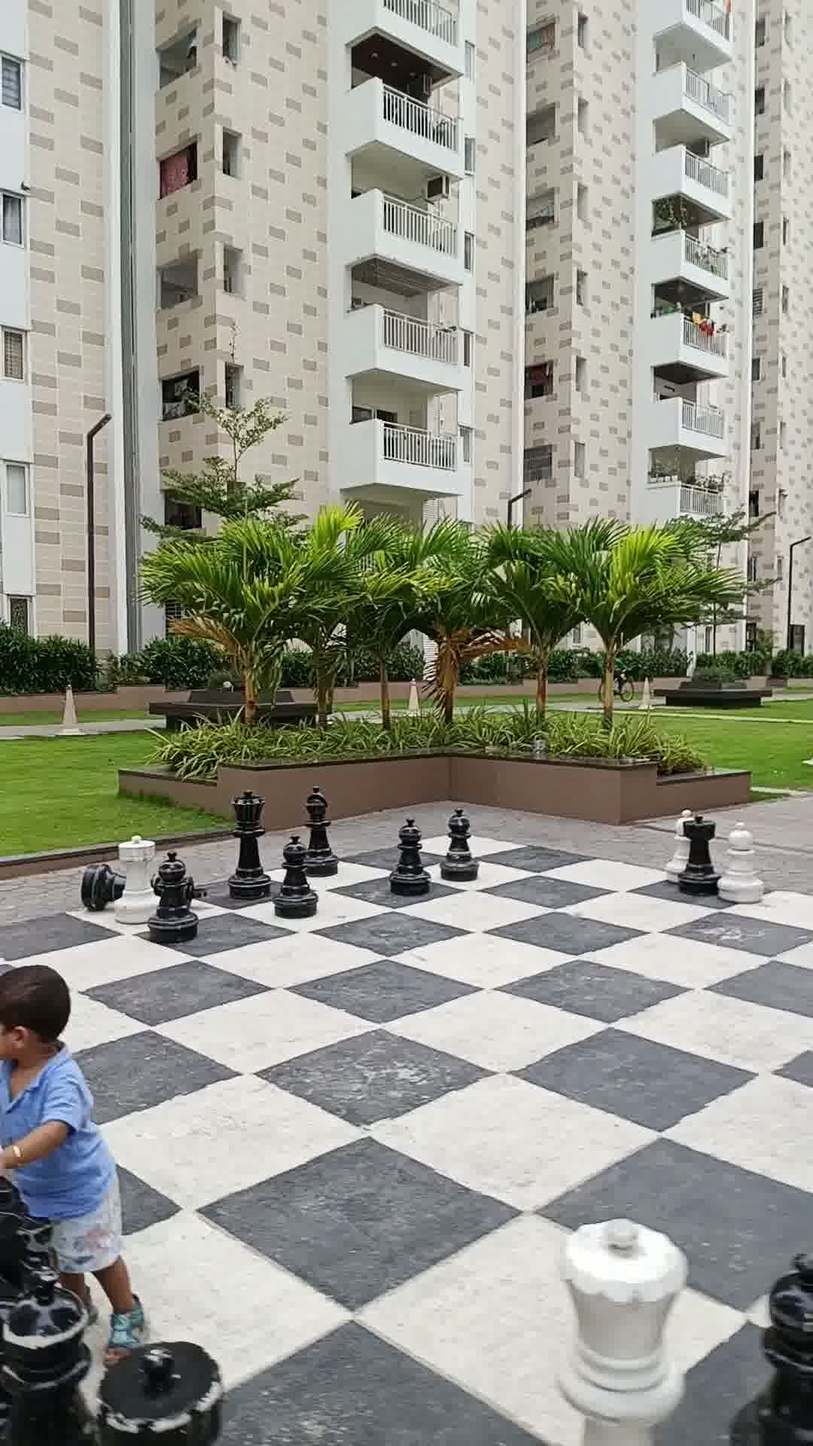person: (9, 948, 154, 1383)
tree: (535, 507, 751, 760), (142, 490, 287, 763), (361, 481, 492, 754), (475, 504, 606, 757), (259, 495, 373, 760)
